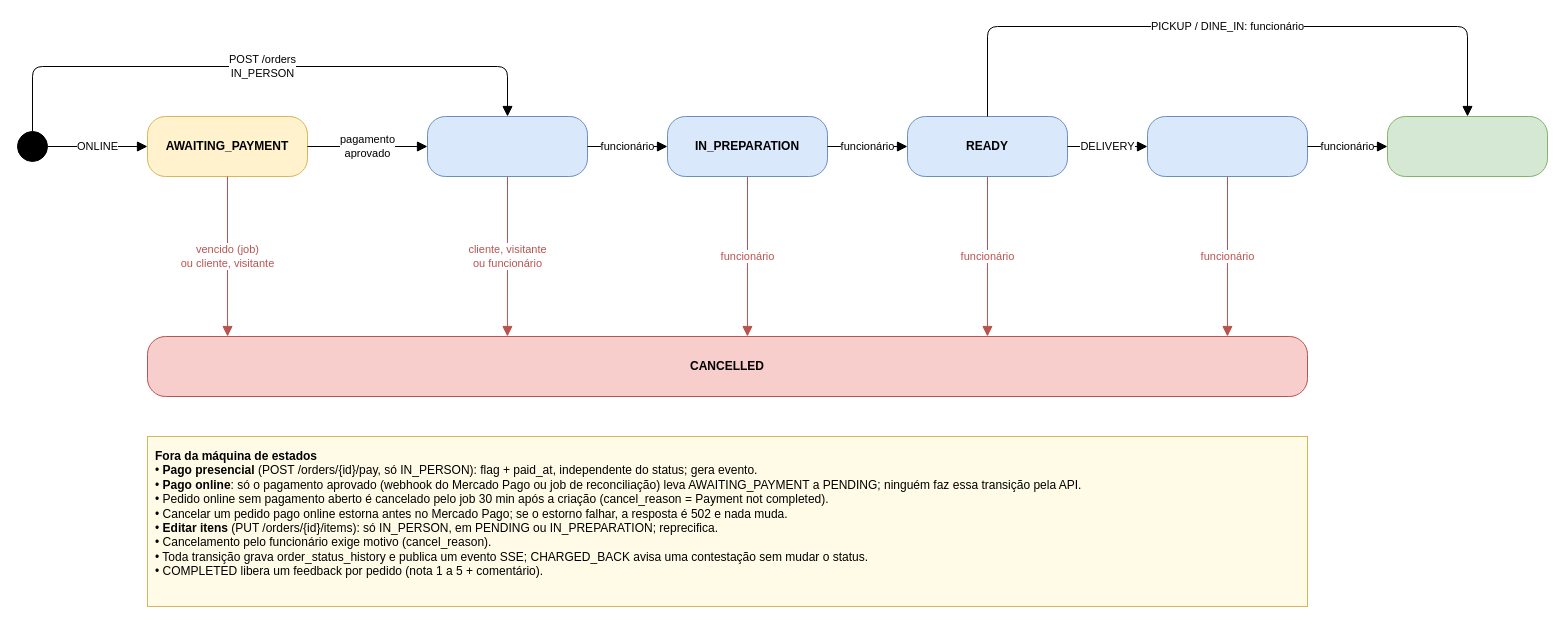
This 1565x624 diagram has some shape labels left out. The centre of each missing label's shape, as x and y in pixels:
"COMPLETED" goes at (1467,146).
"OUT_FOR_DELIVERY" goes at (1227,146).
"PENDING" goes at (507,146).
